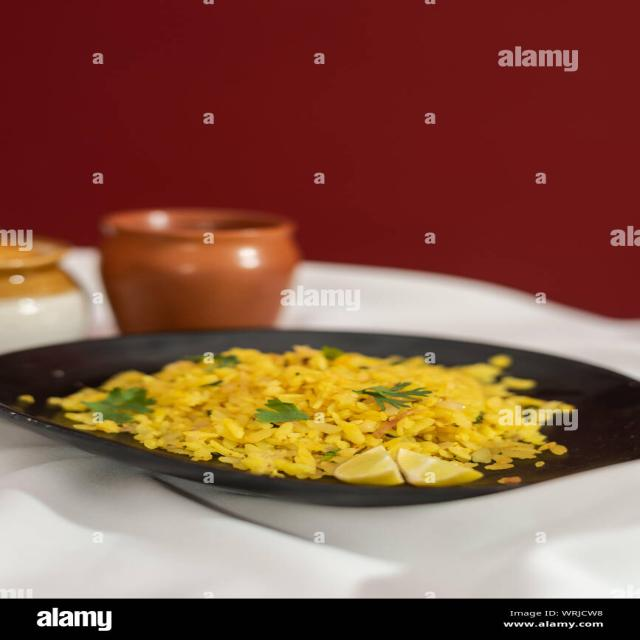POHA: (50, 347, 559, 478)
